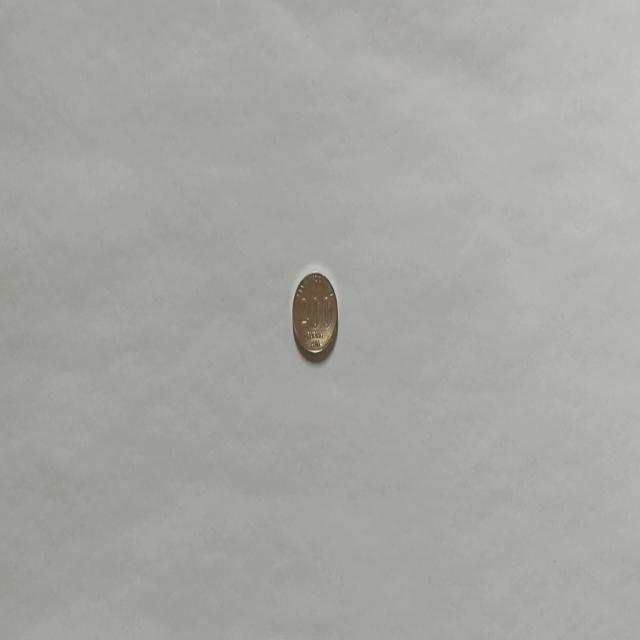dua ratus rupiah: (291, 269, 339, 360)
